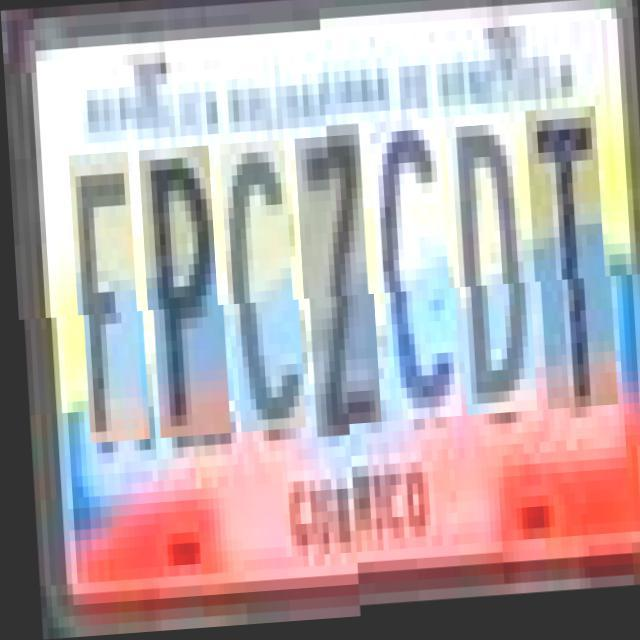C: (373, 134, 457, 438), (222, 144, 300, 436)
D: (448, 130, 532, 434)
F: (72, 153, 144, 444)
P: (142, 148, 225, 440)
T: (529, 125, 613, 428)
Z: (298, 140, 376, 442)
